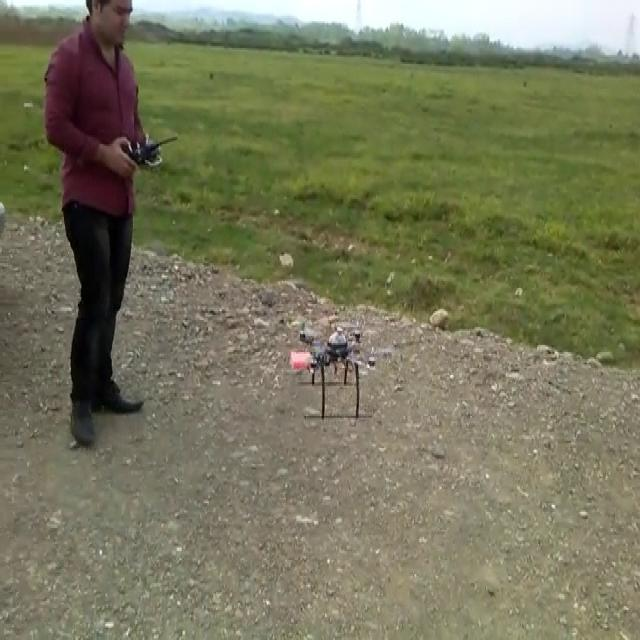drone: (288, 320, 393, 420)
